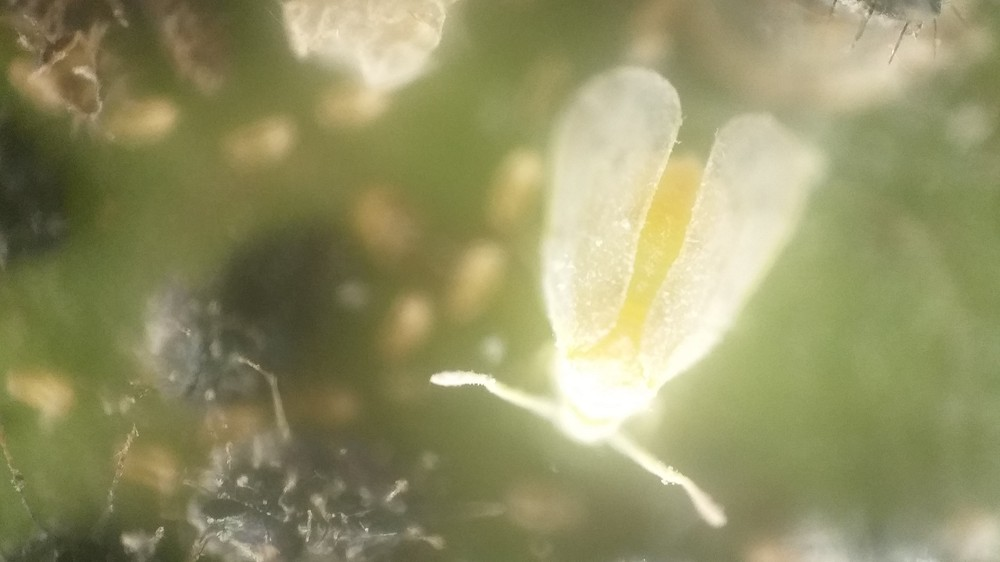Mosca Blanca: (423, 19, 843, 539)
